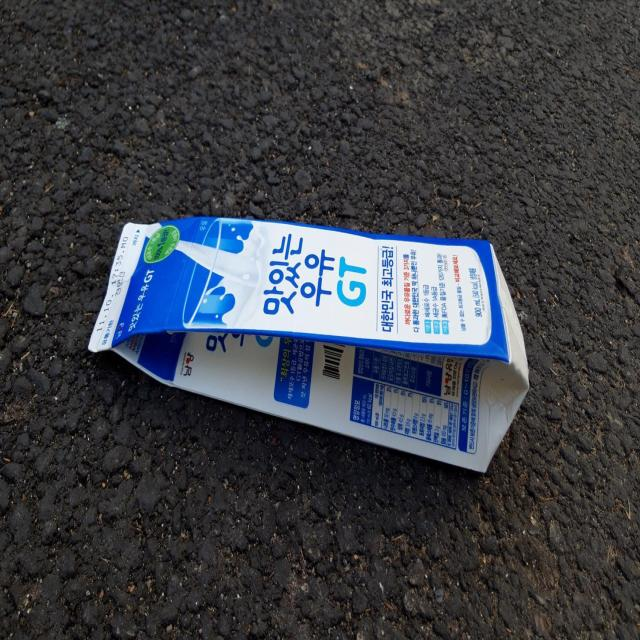paperpack: (88, 215, 529, 472)
